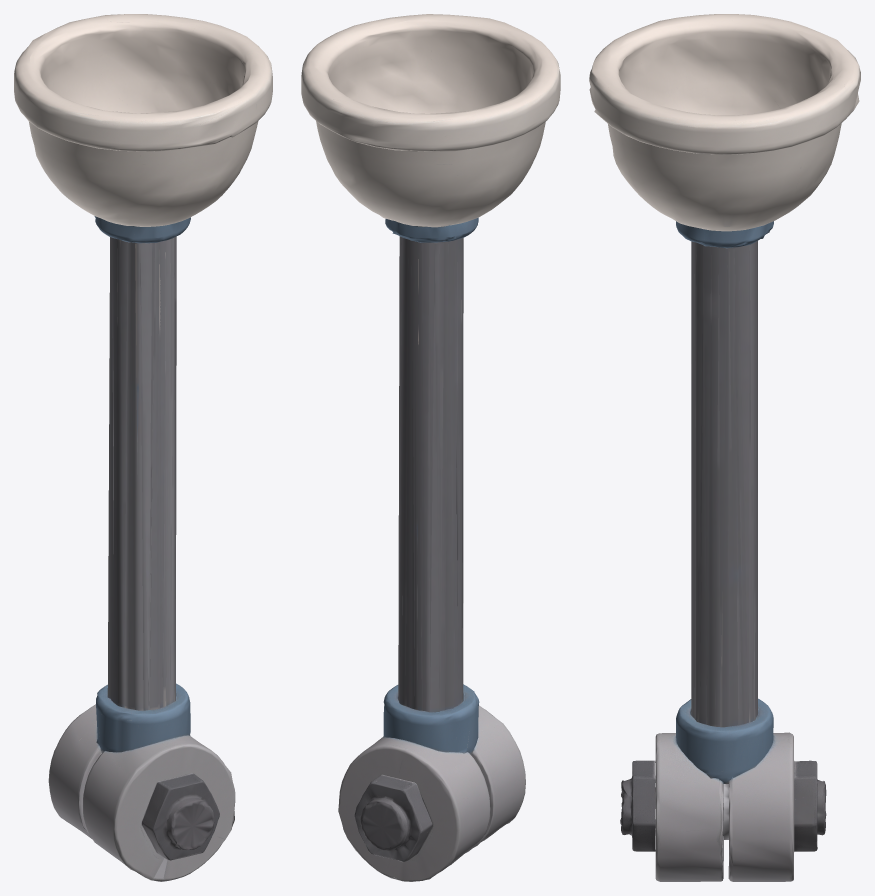
Rendered from Meshy_AI_Cup_on_a_Pole_20261027_texture.fbx.
The picture shows the model from 3 angles, left to right: view 1: azimuth 30°, elevation 25°; view 2: azimuth 150°, elevation 25°; view 3: azimuth 270°, elevation 25°; orthographic projection. The views are drawn at different scales.
Parts seen in each view (by area): view 1: Mesh_0; view 2: Mesh_0; view 3: Mesh_0.
Boxes of the visible parts, left/top/right/bottom form: Mesh_0: left=14, top=14, right=272, bottom=881; Mesh_0: left=301, top=14, right=560, bottom=881; Mesh_0: left=589, top=14, right=860, bottom=881.
Size of the model in its own units: 28.17 by 95.07 by 28.91.
Materials: 1 (1 with a texture image).
